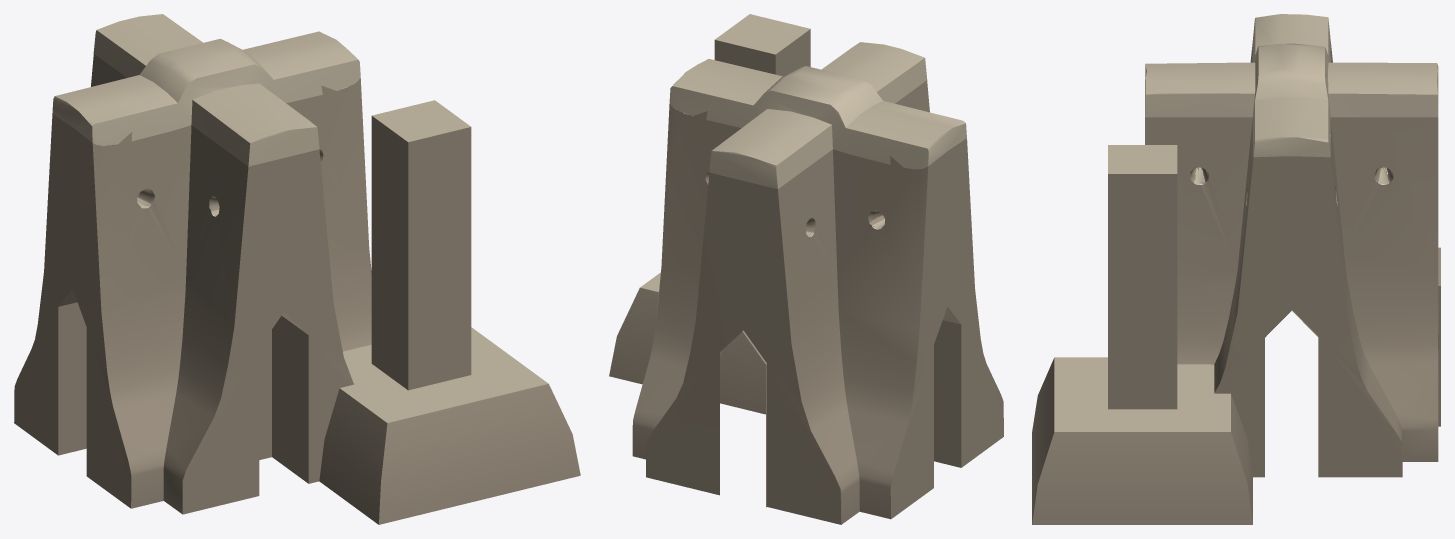
Rendered from stone-wall-nesw-fill.glb.
3 views of the same model, side by side, from view 1: azimuth 30°, elevation 25°; view 2: azimuth 150°, elevation 25°; view 3: azimuth 270°, elevation 25° (orthographic). The views are drawn at different scales.
Visible parts, largest first — view 1: body; view 2: body; view 3: body.
Part boxes in pixels (x1,y1,x2,y2): body: (14,14,580,524); body: (609,14,1003,524); body: (1032,14,1440,524).
Bounding box in the file's own units: 1.36 × 1.32 × 1.37.
